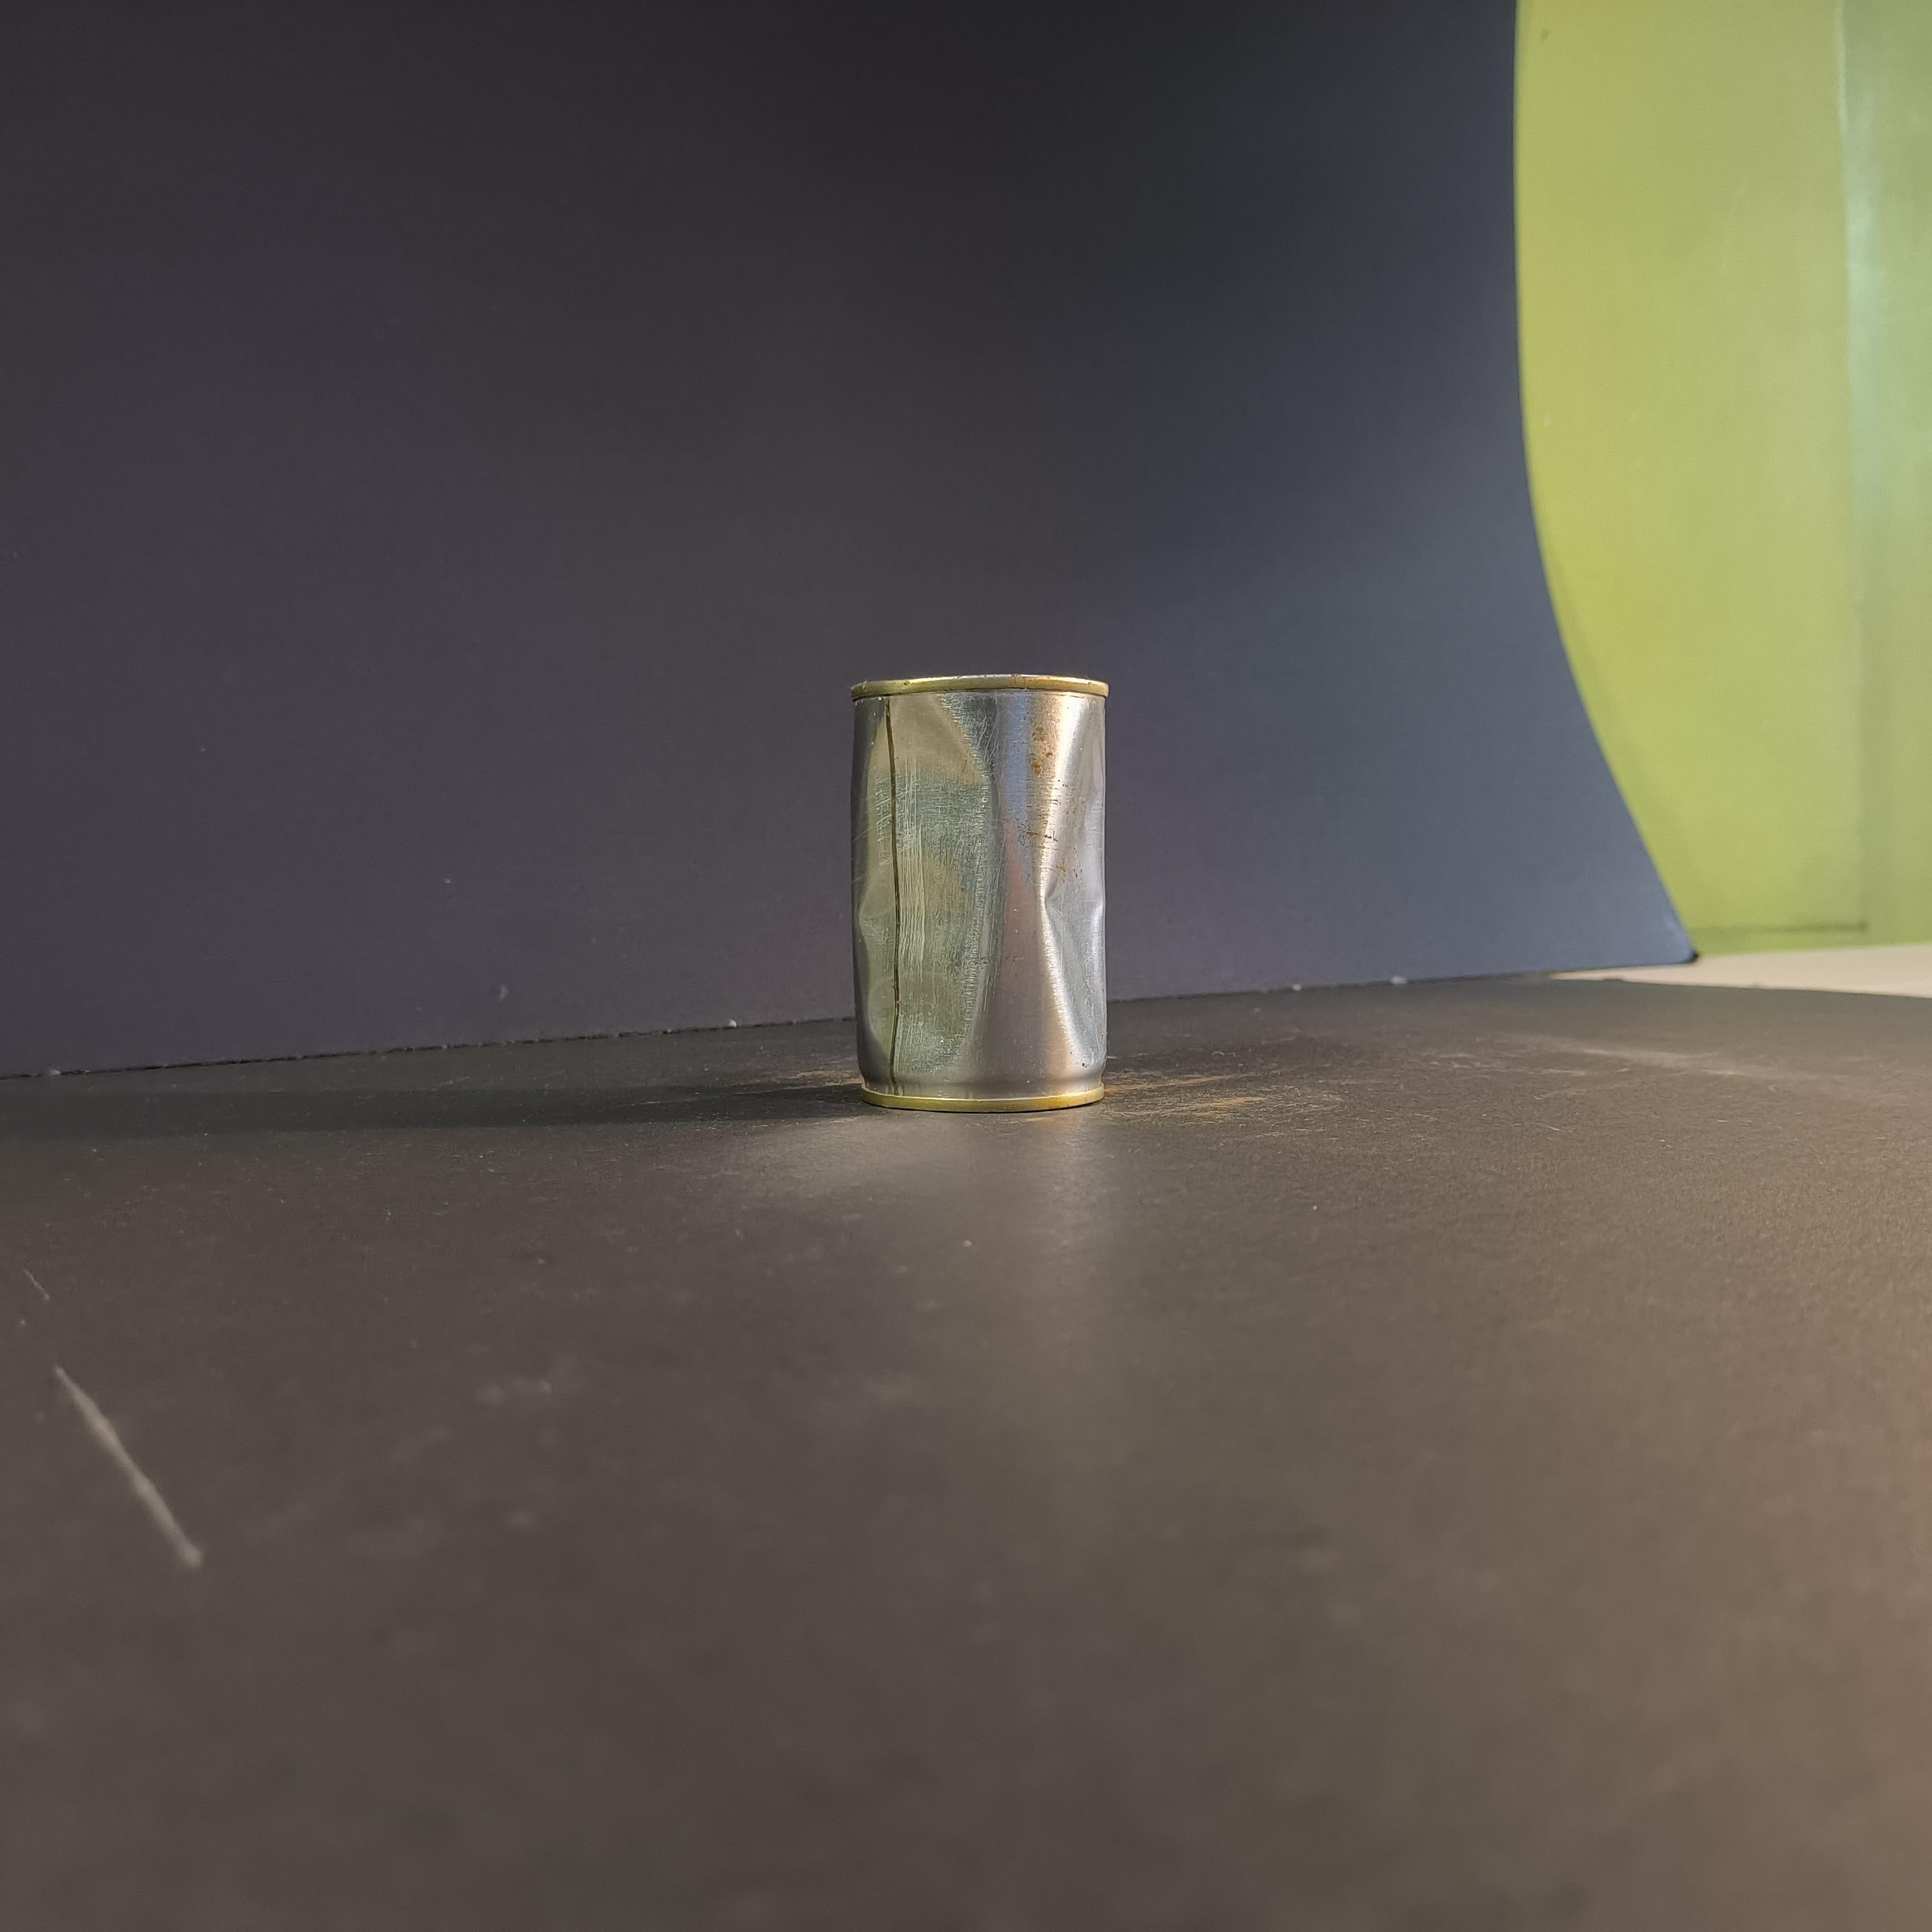Dented: (830, 640, 1132, 1118)
